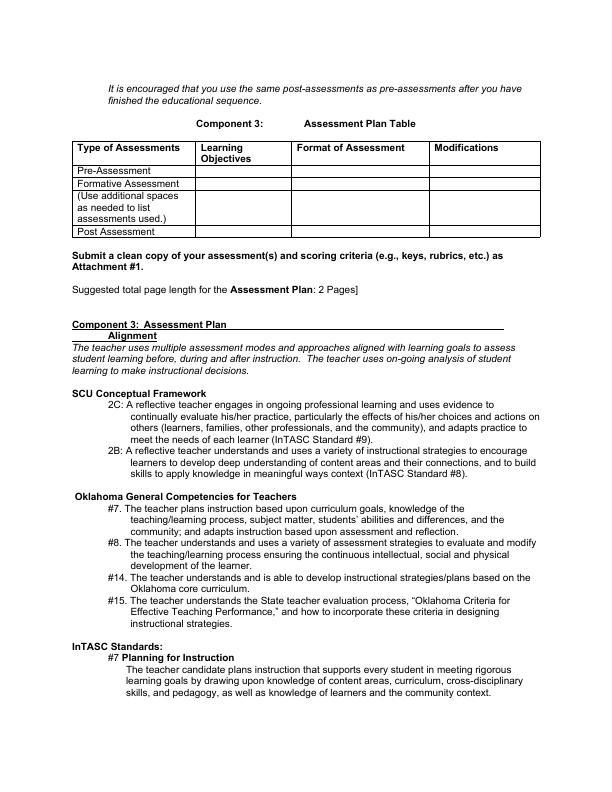table: (69, 139, 549, 242)
text: (69, 489, 540, 635), (69, 385, 545, 481), (68, 639, 531, 709), (71, 342, 520, 377), (101, 81, 533, 109), (68, 248, 508, 275), (70, 280, 360, 298), (190, 116, 422, 130), (71, 319, 230, 333)
